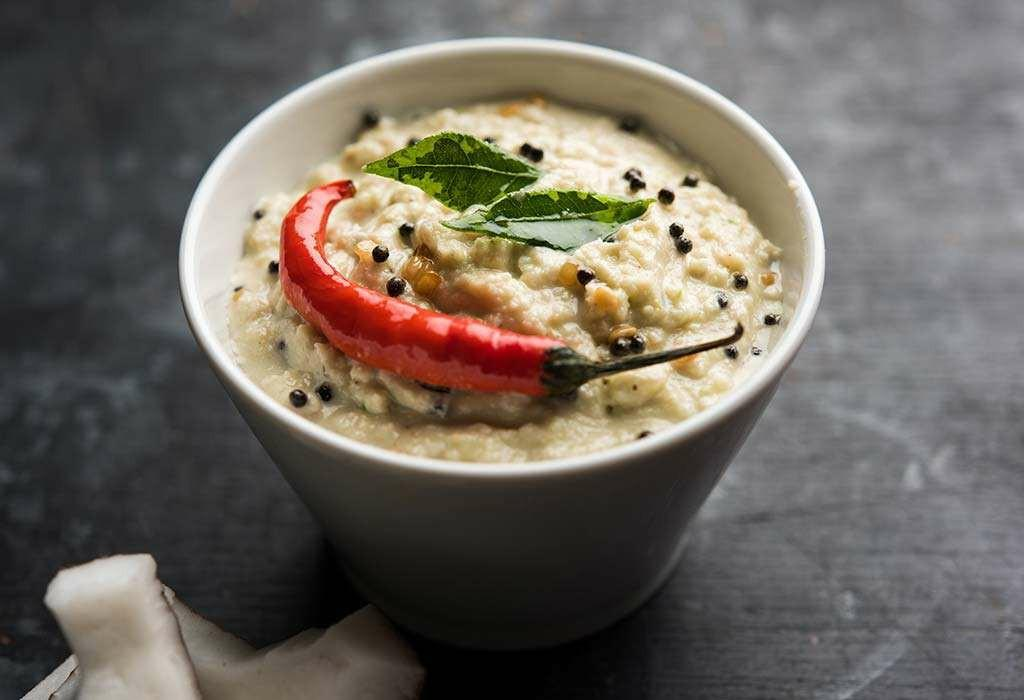CoconutChutney: (231, 96, 779, 465)
